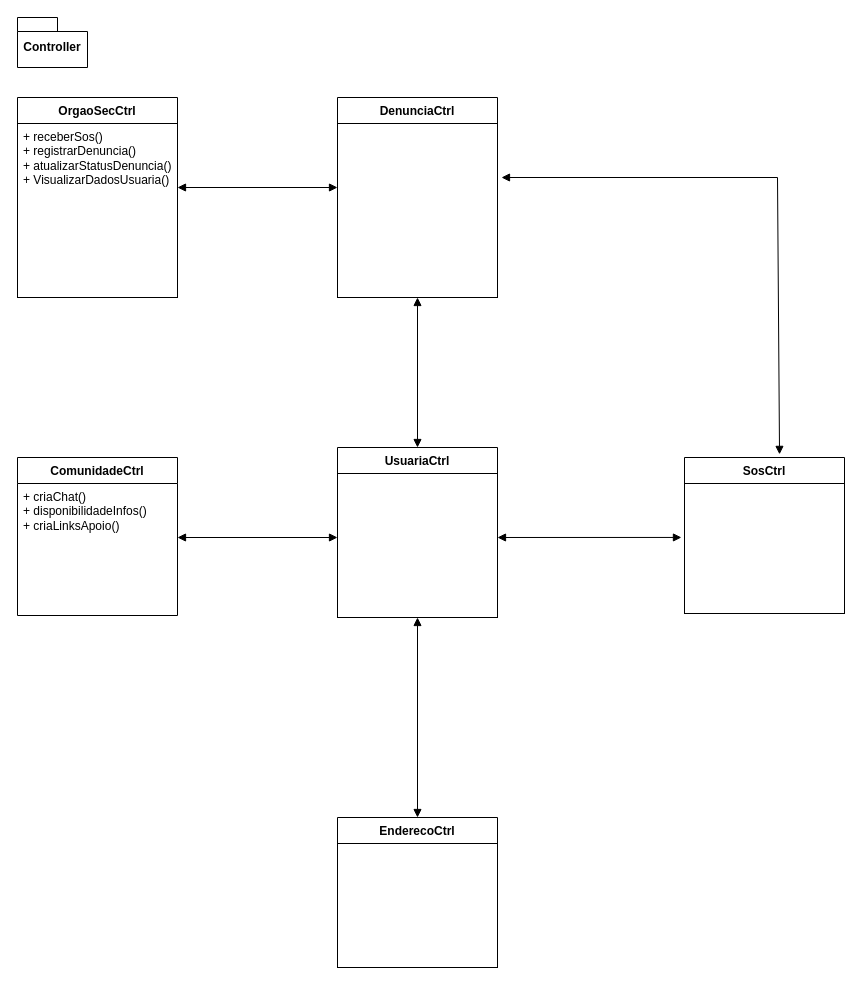
This 862x988 diagram has some shape labels left out. The shapes that lost their labels are listed below. From the top down, each one's centre as x and y in pixels, then its label:
At point (417, 210): "+ atualizarStatus() + reabrirDenuncia(id: Double) + gerarRelatorioDenuncias()".
At point (417, 545): "+ validarCadastro() + editarCadastro() + login() + logout()".
At point (764, 548): "+ encerrarSos() + atribuirSosOS() + filtrarSosPorStatus()".
At point (417, 905): "+ buscarEnderecoPorId(id) + validarEndereco()".
